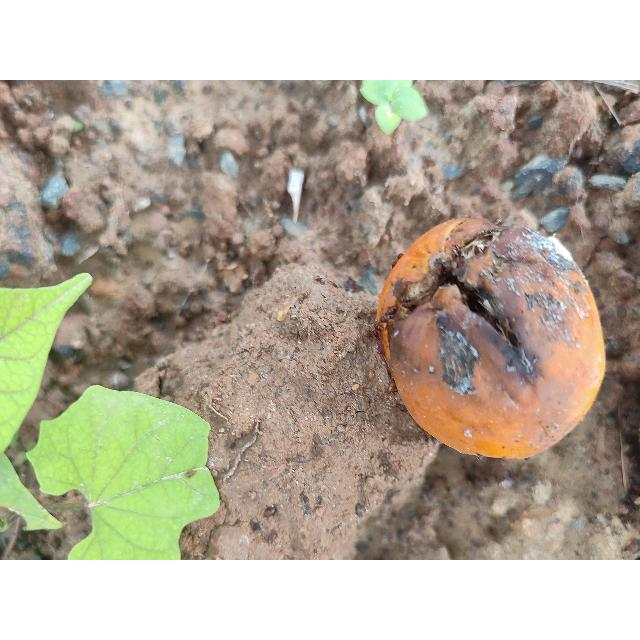damaged: (373, 219, 608, 462)
